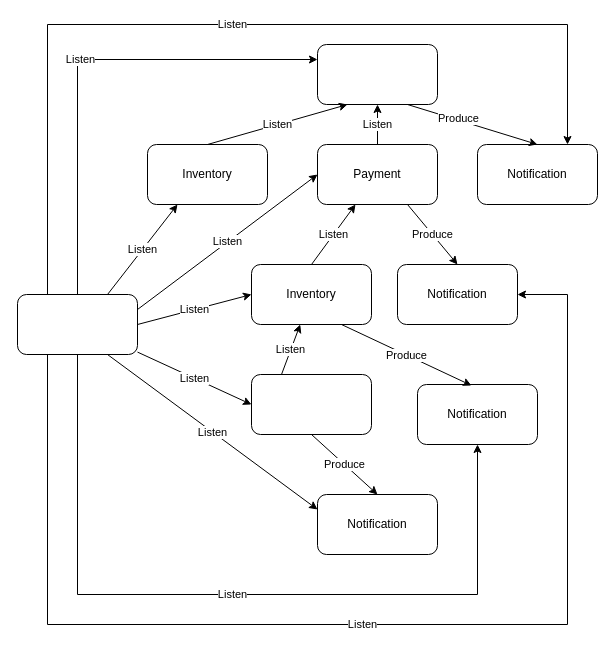
Image size: 615x650. Some labels were removed from this diagram. Each missing label, with the box of its shape:
Log: (16, 294, 138, 354)
Logistic: (250, 374, 372, 434)
Order: (316, 44, 438, 104)
